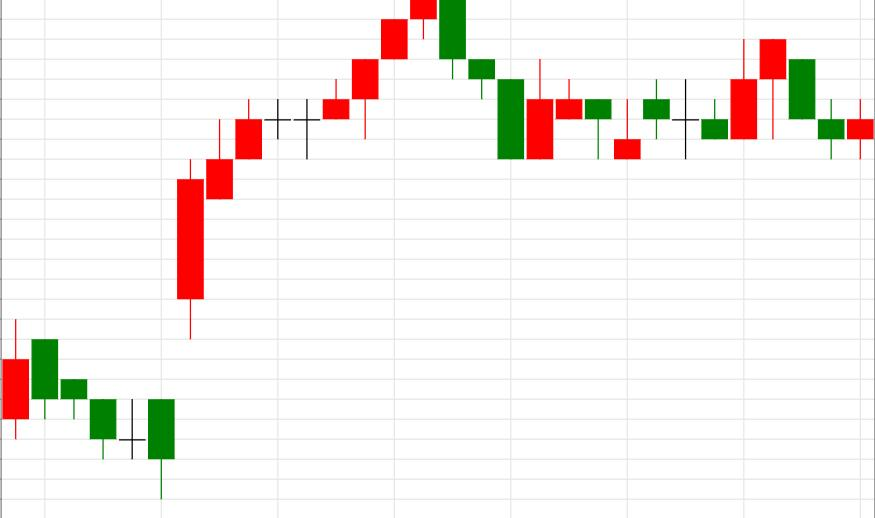bearish_engulfing_fall: (176, 0, 465, 339)
